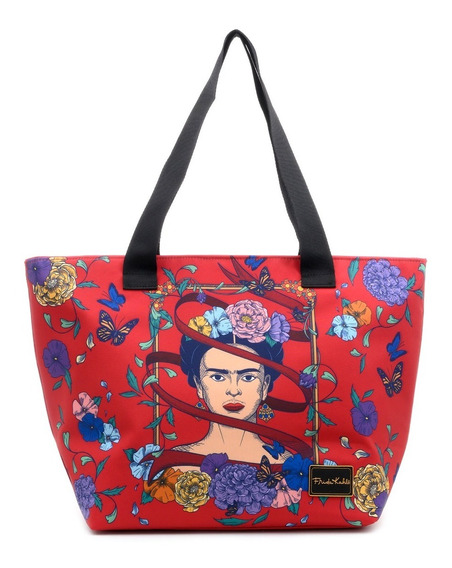cartera: (23, 29, 428, 534)
